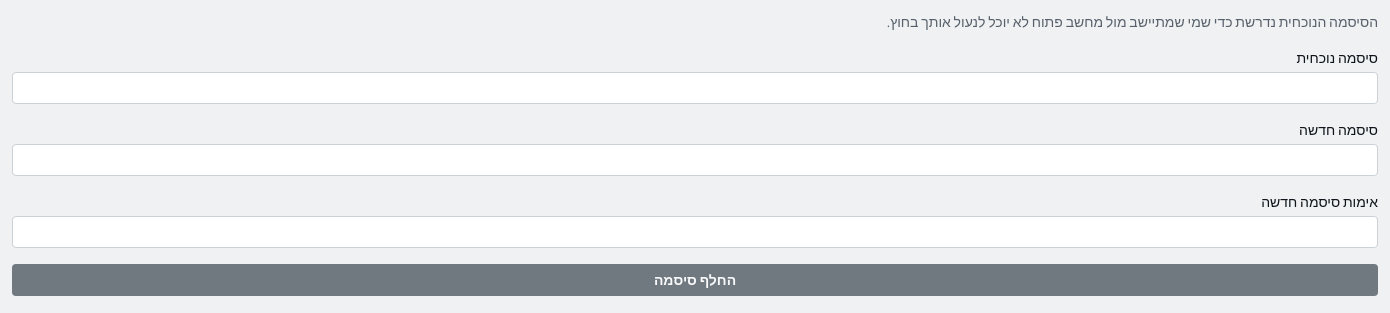
Test: טופס החלפת סיסמה › הכפתור נעול עד שכל שלושת השדות מלאים
Check: the button "החלף סיסמה" is disabled, box [12,264,1378,296]
Type "yashan-123" into the password field labelled "סיסמה נוכחית" at (695, 88), box [12,72,1378,104]
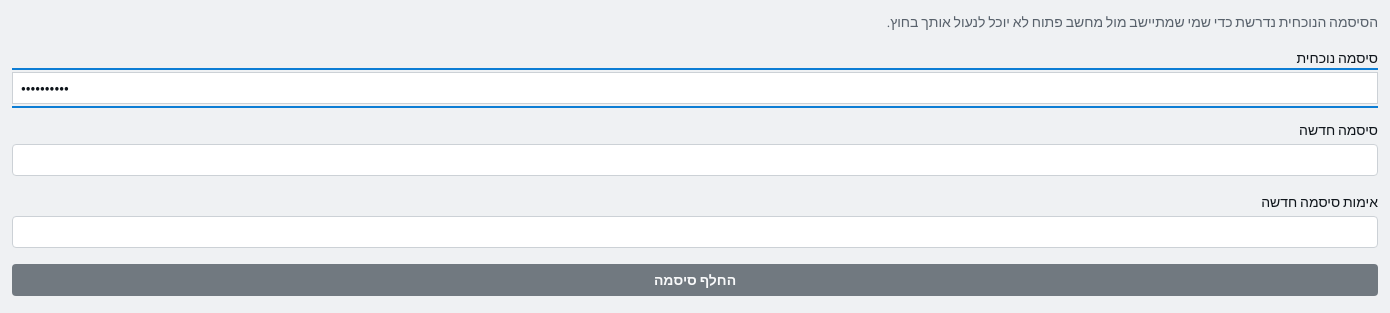
Type "chadash-456" into the password field labelled "סיסמה חדשה" at (695, 160), box [12,144,1378,176]
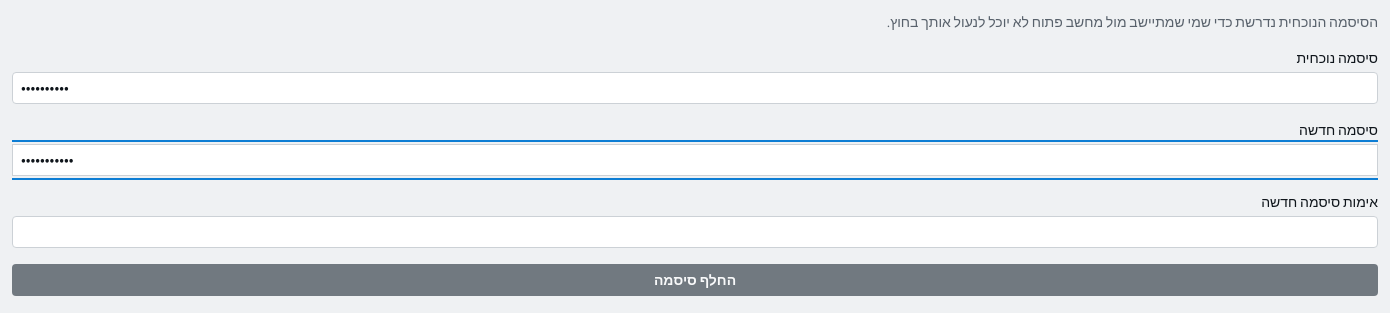
Type "chadash-456" into the password field labelled "אימות סיסמה חדשה" at (695, 232), box [12,216,1378,248]
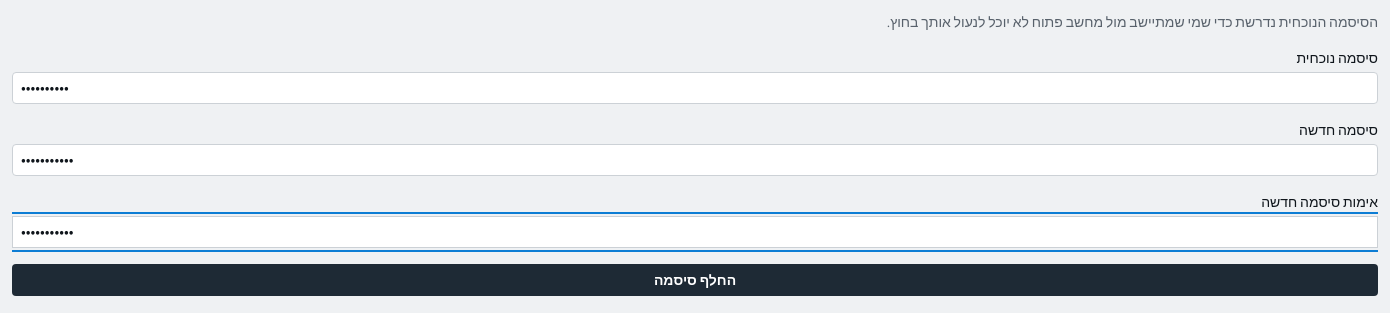
Check: the button "החלף סיסמה" is enabled, box [12,264,1378,296]
